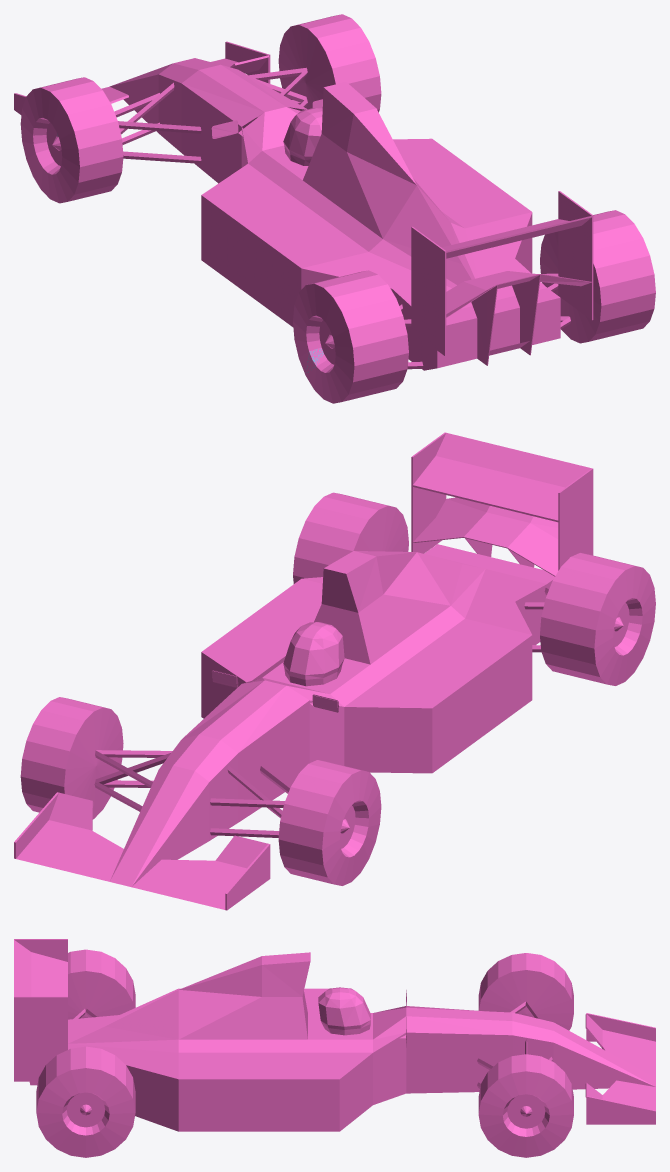
The model's file is assembly_equivalence_overlay.glb.
3 renders of one model, top to bottom at view 1: azimuth 30°, elevation 25°; view 2: azimuth 150°, elevation 25°; view 3: azimuth 270°, elevation 25°, orthographic. The views are drawn at different scales.
Parts seen in each view (by area): view 1: RUNTIME_SOLID__F194_CHASSIS, RUNTIME_SOLID__LP_TIRE_LR, RUNTIME_SOLID__LP_TIRE_LF, RUNTIME_SOLID__LP_TIRE_RR, RUNTIME_SOLID__LP_TIRE_RF, RUNTIME_SOLID__SUSPENSION_LF, RUNTIME_SOLID__SUSPENSION_RF; view 2: RUNTIME_SOLID__F194_CHASSIS, RUNTIME_SOLID__LP_TIRE_LR, RUNTIME_SOLID__LP_TIRE_LF, RUNTIME_SOLID__LP_TIRE_RF, RUNTIME_SOLID__LP_TIRE_RR, RUNTIME_SOLID__SUSPENSION_RF, RUNTIME_SOLID__SUSPENSION_LF; view 3: RUNTIME_SOLID__F194_CHASSIS, RUNTIME_SOLID__LP_TIRE_RR, RUNTIME_SOLID__LP_TIRE_RF, RUNTIME_SOLID__LP_TIRE_LF, RUNTIME_SOLID__LP_TIRE_LR.
Boxes of the visible parts, <box> form: RUNTIME_SOLID__F194_CHASSIS: <box>14,41,593,370</box>; RUNTIME_SOLID__LP_TIRE_LR: <box>293,270,408,403</box>; RUNTIME_SOLID__LP_TIRE_LF: <box>20,77,123,203</box>; RUNTIME_SOLID__LP_TIRE_RR: <box>540,210,655,343</box>; RUNTIME_SOLID__LP_TIRE_RF: <box>278,14,381,112</box>; RUNTIME_SOLID__SUSPENSION_LF: <box>114,82,201,163</box>; RUNTIME_SOLID__SUSPENSION_RF: <box>248,67,307,107</box>; RUNTIME_SOLID__F194_CHASSIS: <box>14,432,593,910</box>; RUNTIME_SOLID__LP_TIRE_LR: <box>540,553,655,685</box>; RUNTIME_SOLID__LP_TIRE_LF: <box>278,760,381,885</box>; RUNTIME_SOLID__LP_TIRE_RF: <box>20,697,123,819</box>; RUNTIME_SOLID__LP_TIRE_RR: <box>293,492,408,583</box>; RUNTIME_SOLID__SUSPENSION_RF: <box>94,750,172,811</box>; RUNTIME_SOLID__SUSPENSION_LF: <box>210,765,289,837</box>; RUNTIME_SOLID__F194_CHASSIS: <box>14,939,655,1131</box>; RUNTIME_SOLID__LP_TIRE_RR: <box>36,1046,135,1157</box>; RUNTIME_SOLID__LP_TIRE_RF: <box>478,1054,573,1157</box>; RUNTIME_SOLID__LP_TIRE_LF: <box>478,953,573,1030</box>; RUNTIME_SOLID__LP_TIRE_LR: <box>68,949,135,1019</box>.
Size of the model in its own units: 1.89 by 1.04 by 4.26.
